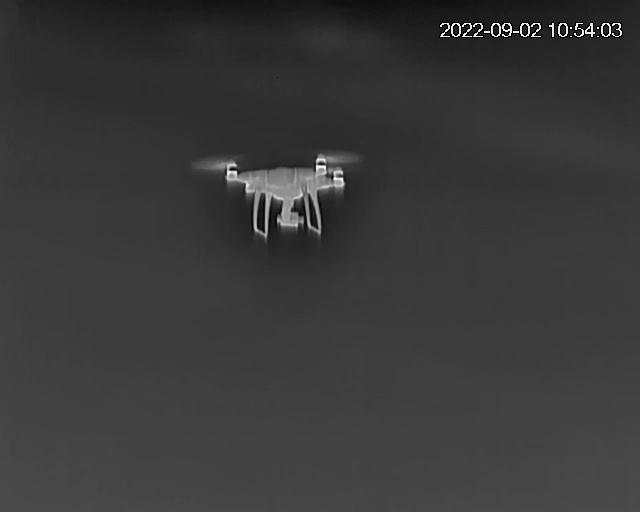DJI-Phantom: (194, 151, 367, 238)
